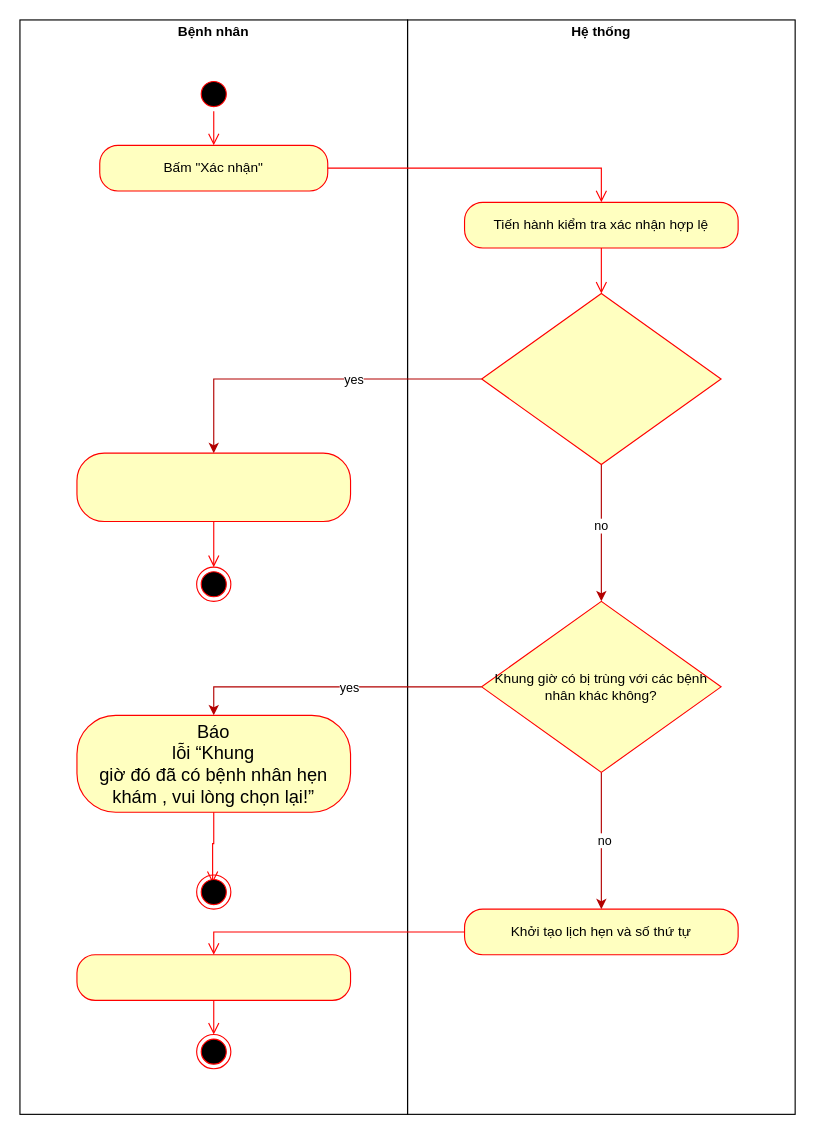
Some shapes in this 815 by 1134 pixel diagram are drawn without their labels. The shapes that lost their labels are listed below. From the top down, each one's centre as x and y in pixels, then its label:
point (601, 378): Khung giờ có bị hết chỗ không?
point (213, 487): Báo lỗi “Khung giờ đó không có sẵn, vui lòng chọn lại!”
point (213, 977): Hiển thị "Đặt lịch khám thành công!"
